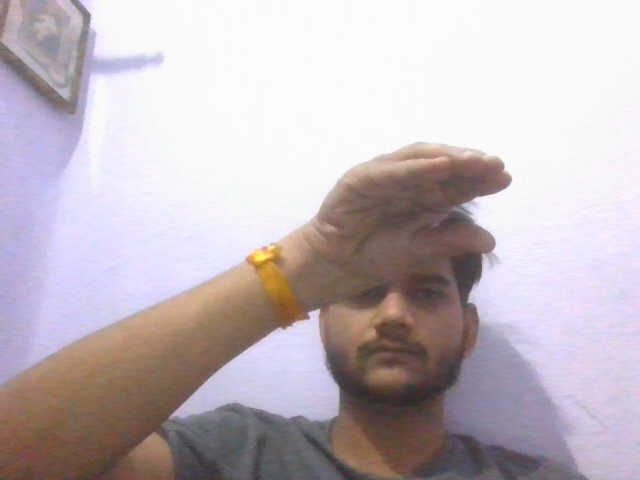sorry: (307, 133, 538, 303)
